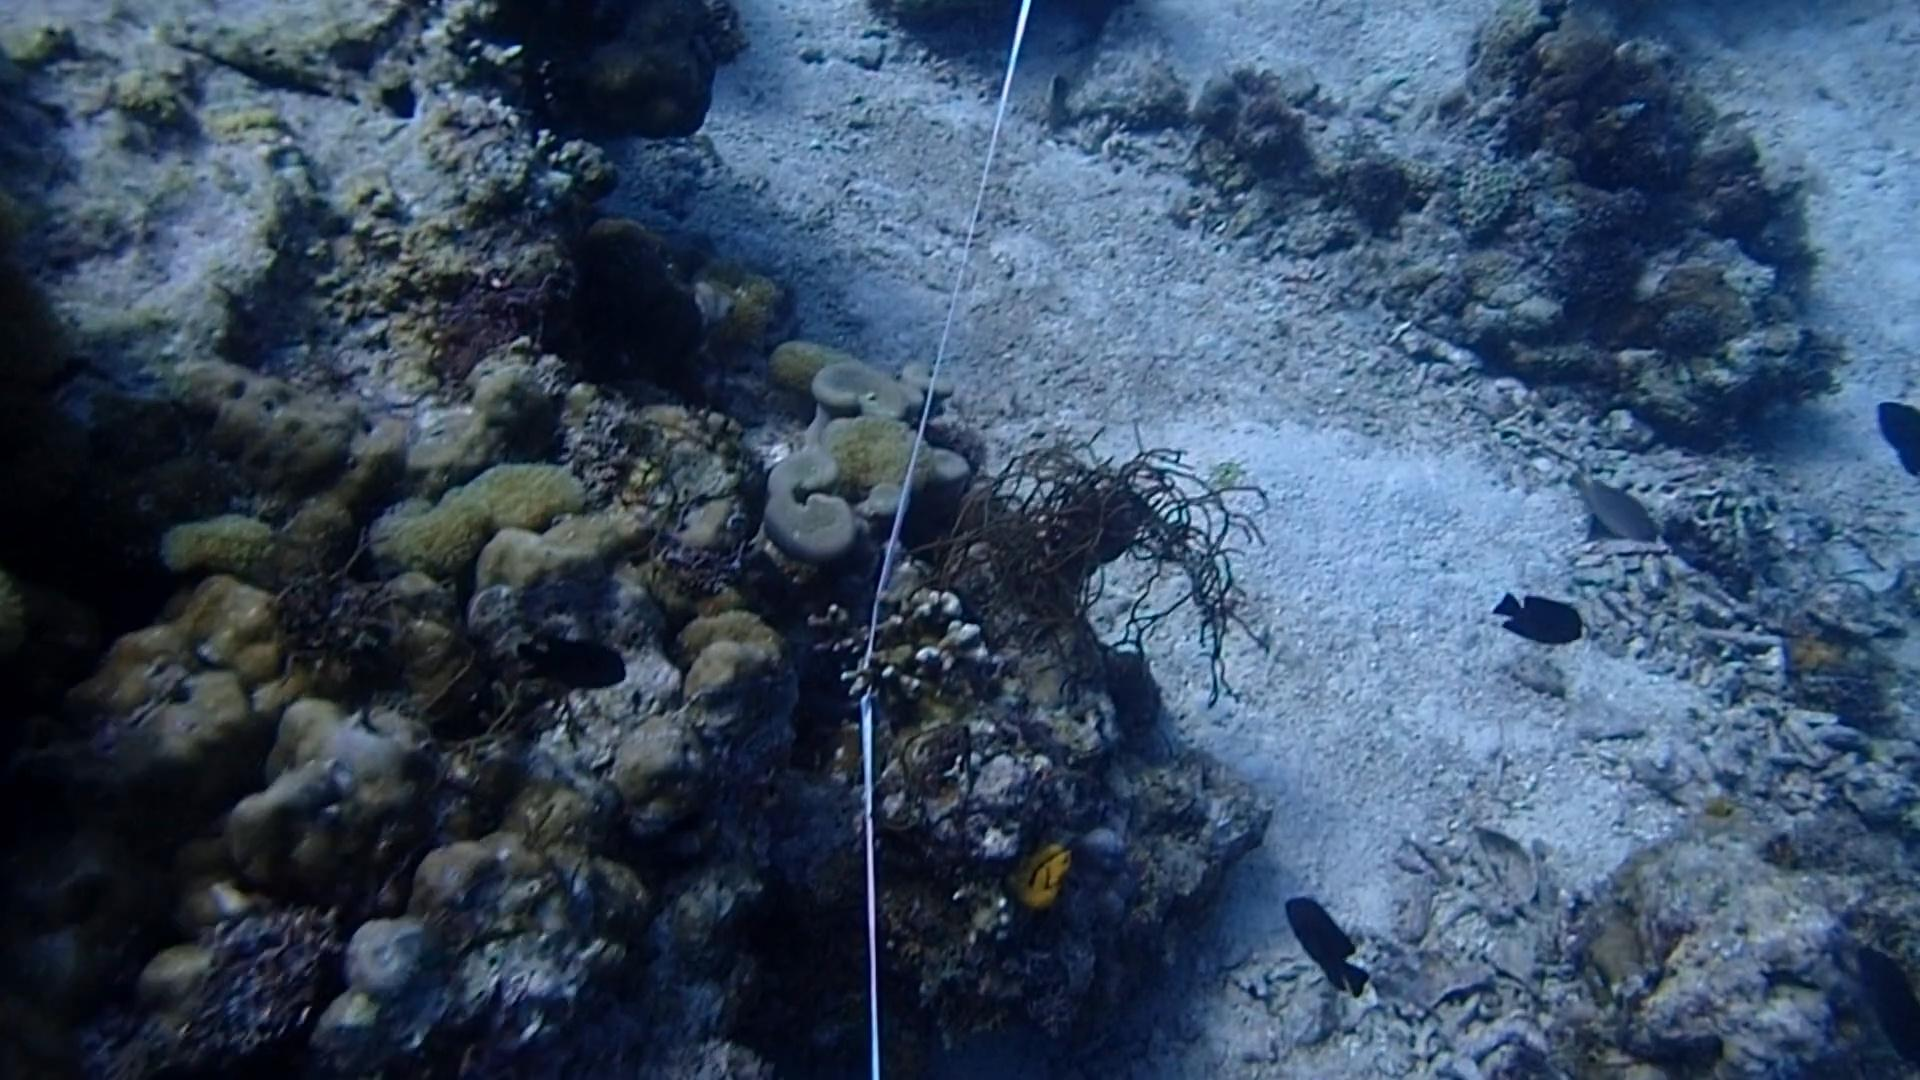Dark Fish: (1279, 889, 1369, 1007), (1481, 572, 1592, 663), (1846, 940, 1920, 1062), (1869, 392, 1920, 481)
Light Fish: (1556, 459, 1667, 554)
